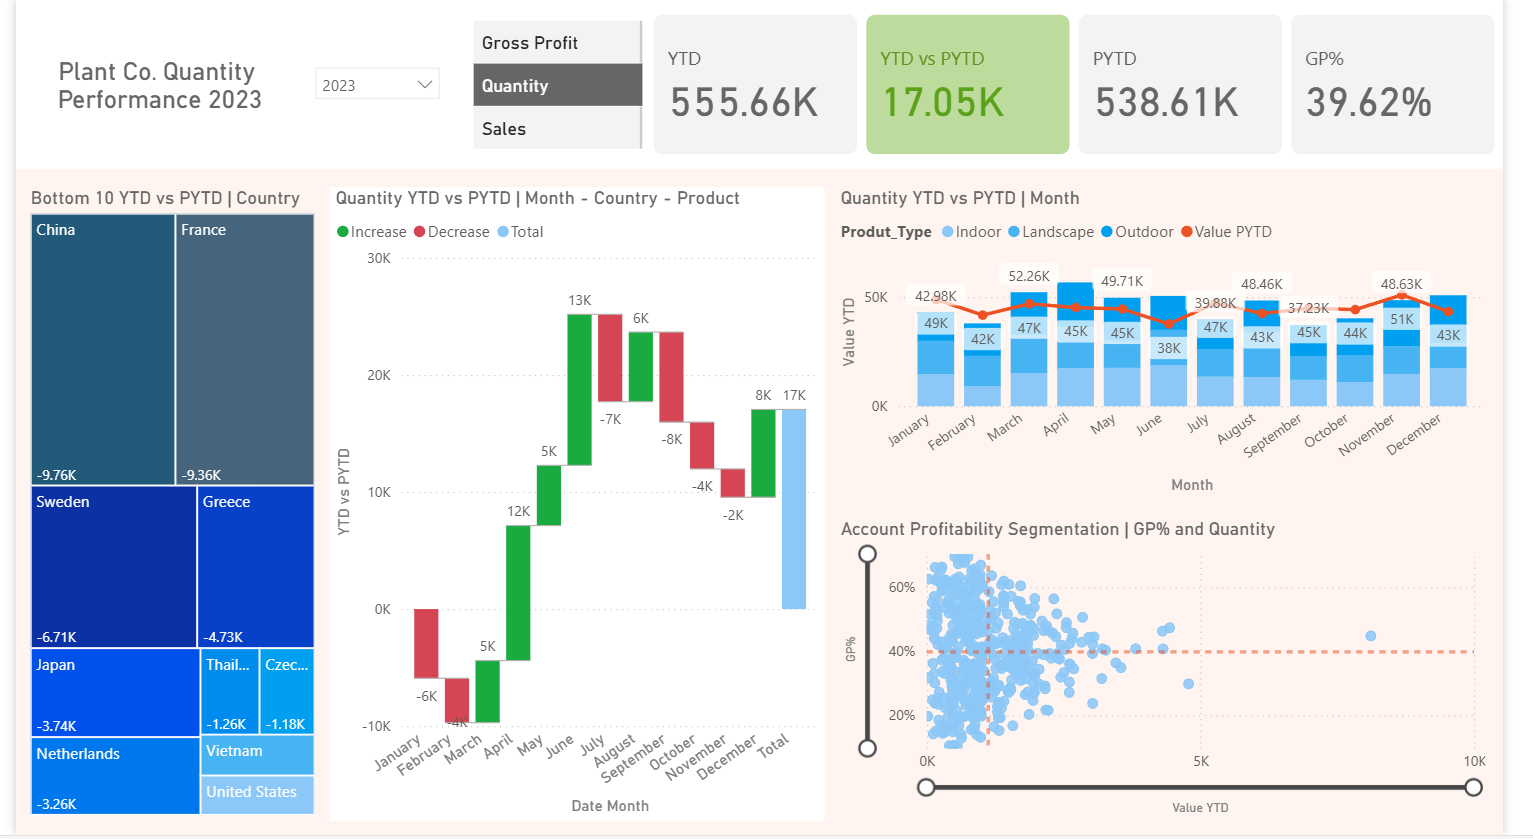

The dashboard page shown, as its layout file describes it:
{"tool":"powerbi","page":{"name":"Page 1","canvas":[1280,720],"ordinal":0},"visuals":[{"type":"cardVisual","fields":{"Data":["_Measures.S_YTD","_Measures.YTD vs PYTD","_Measures.S_PYTD","_Measures.GP%"]},"box":[544.4,8.6,735.8,130.9],"z":0},{"type":"advancedSlicerVisual","fields":{"Values":["Slc_Values.Values"]},"box":[388.9,13.6,155.6,121],"z":1000},{"type":"slicer","title":"YTD","fields":{"Values":["Dim_Date.Date.Variation.Date Hierarchy.Year"]},"box":[248.1,49.4,127.2,49.4],"z":2000},{"type":"treemap","title":"Bottom 10 YTD vs PYTD | Country","fields":{"Values":["_Measures.YTD vs PYTD"],"Group":["Dim_Account.country"]},"box":[7.4,161.7,254.3,545.7],"z":3000},{"type":"waterfallChart","fields":{"Y":["_Measures.YTD vs PYTD"],"Category":["Dim_Date.Date.Variation.Date Hierarchy.Month","Dim_Account.country","Dim_Product.Produt_Type","Dim_Product.Product_Name"]},"box":[270.4,161.7,425.9,545.7],"z":4000},{"type":"lineStackedColumnComboChart","fields":{"Y":["_Measures.S_YTD"],"Y2":["_Measures.S_PYTD"],"Category":["Dim_Date.Date.Variation.Date Hierarchy.Quarter","Dim_Date.Date.Variation.Date Hierarchy.Month"],"Series":["Dim_Product.Produt_Type"]},"box":[704.9,161.7,565.4,269.1],"z":5000},{"type":"scatterChart","fields":{"Y":["_Measures.GP%"],"X":["_Measures.S_YTD"],"Category":["Dim_Account.Account"]},"box":[704.9,446.9,565.4,260.5],"z":6000},{"type":"card","fields":{"Values":["_Measures._Report title"]},"box":[0,38.3,248.1,71.6],"z":7000}]}

Visuals, with their boxes in screenshot pixels (x1, y1, x2, y2), scaled from the page's 1280x720 canvas onto the 1533x839 screenshot:
cardVisual - _Measures.S_YTD x _Measures.YTD vs PYTD: [652, 10, 1532, 163]
advancedSlicerVisual - Slc_Values.Values: [466, 16, 652, 157]
"YTD" slicer: [297, 58, 449, 115]
"Bottom 10 YTD vs PYTD | Country" treemap: [9, 188, 313, 824]
waterfallChart - _Measures.YTD vs PYTD x Dim_Date.Date.Variation.Date Hierarchy.Month: [324, 188, 834, 824]
lineStackedColumnComboChart - _Measures.S_YTD x _Measures.S_PYTD: [844, 188, 1521, 502]
scatterChart - _Measures.GP% x _Measures.S_YTD: [844, 521, 1521, 824]
card - _Measures._Report title: [0, 45, 297, 128]
